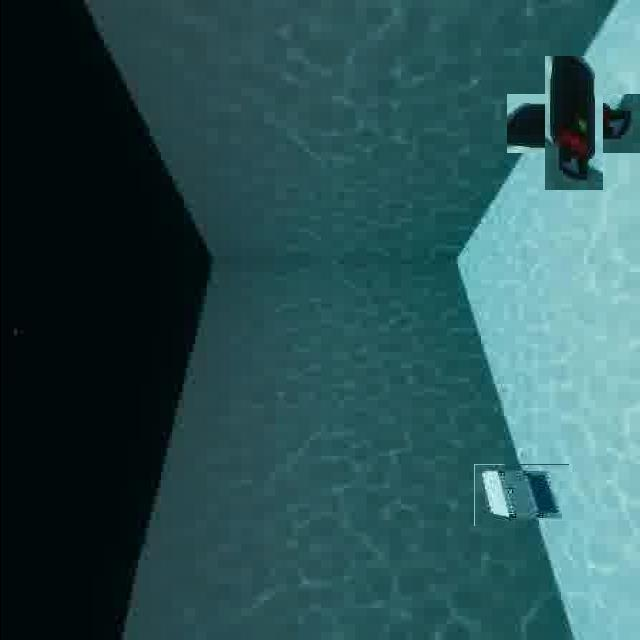Cylinder: (525, 76, 621, 172)
Docking Station: (473, 464, 568, 526)
